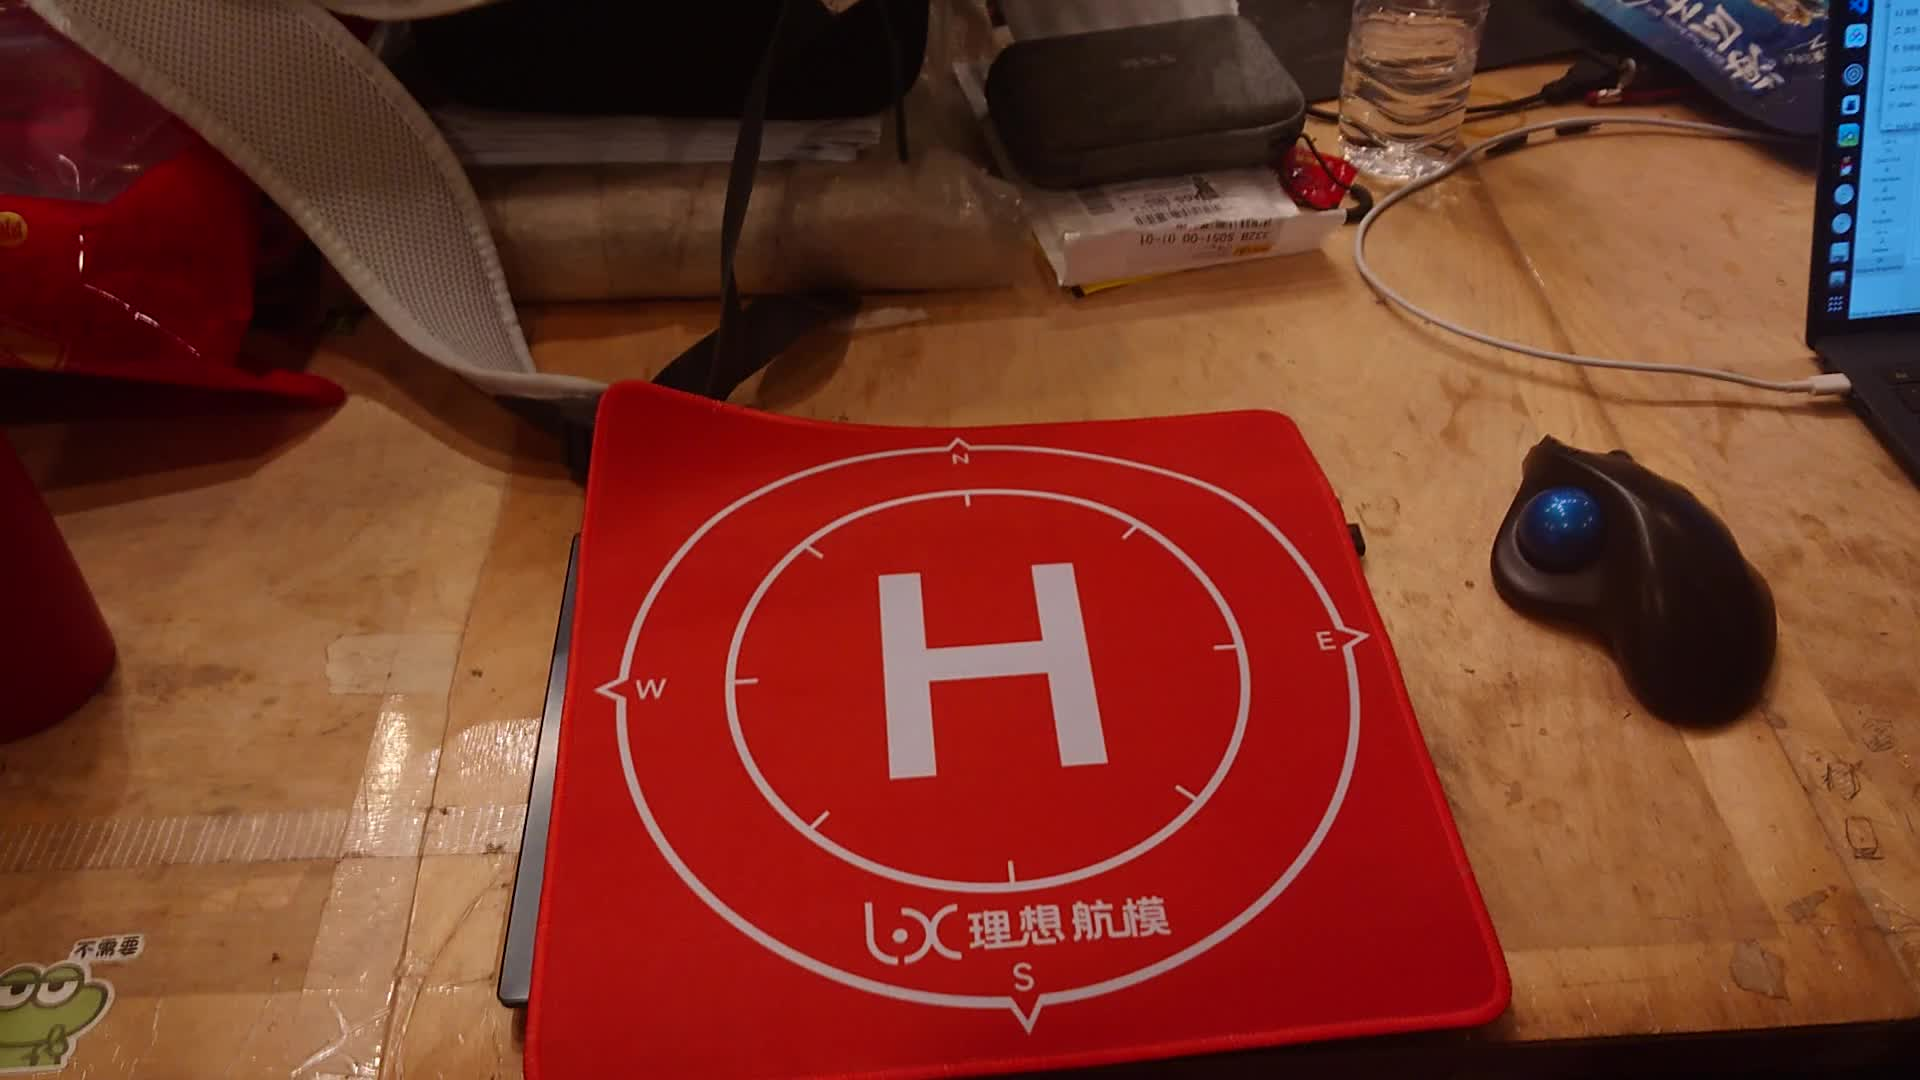H: (876, 563, 1110, 781)
